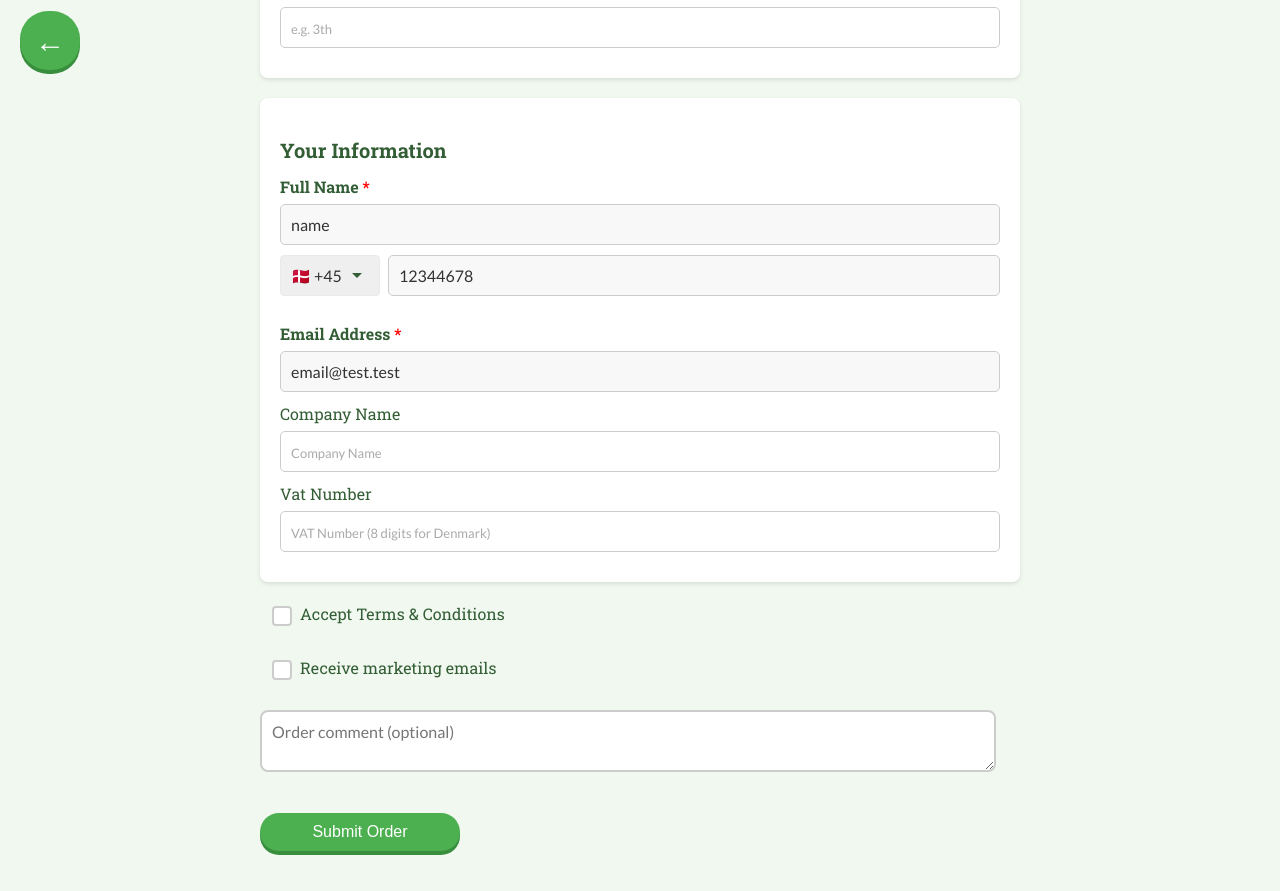
Test: Checkout component › validates form fields correctly (Billing informations)
(page scrolled)
Click the button "Submit Order". click: click(360, 832)
box: top-left (260, 813), bottom-right (460, 851)
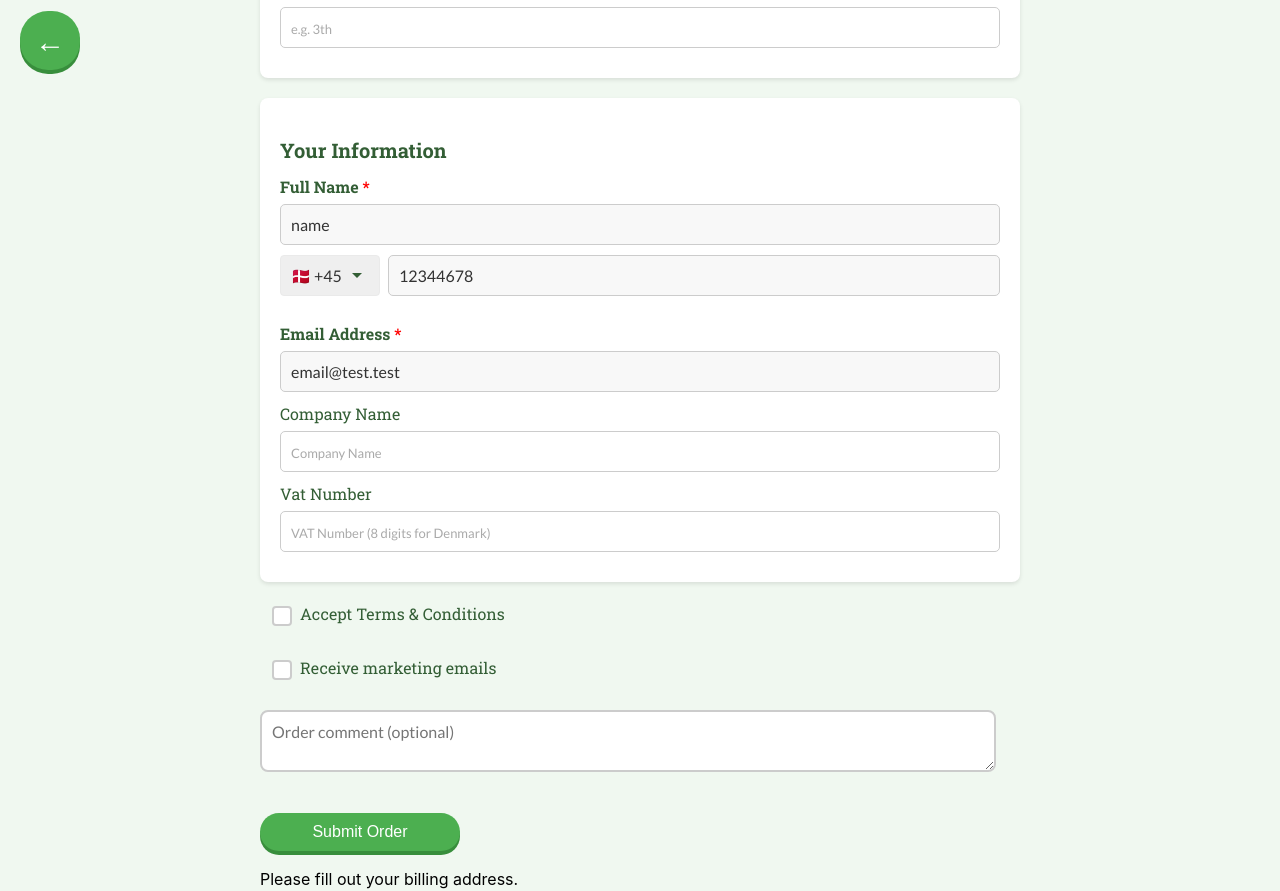
Expected: the text "Please fill out your billing address." is shown, top-left (260, 869), bottom-right (518, 889)
